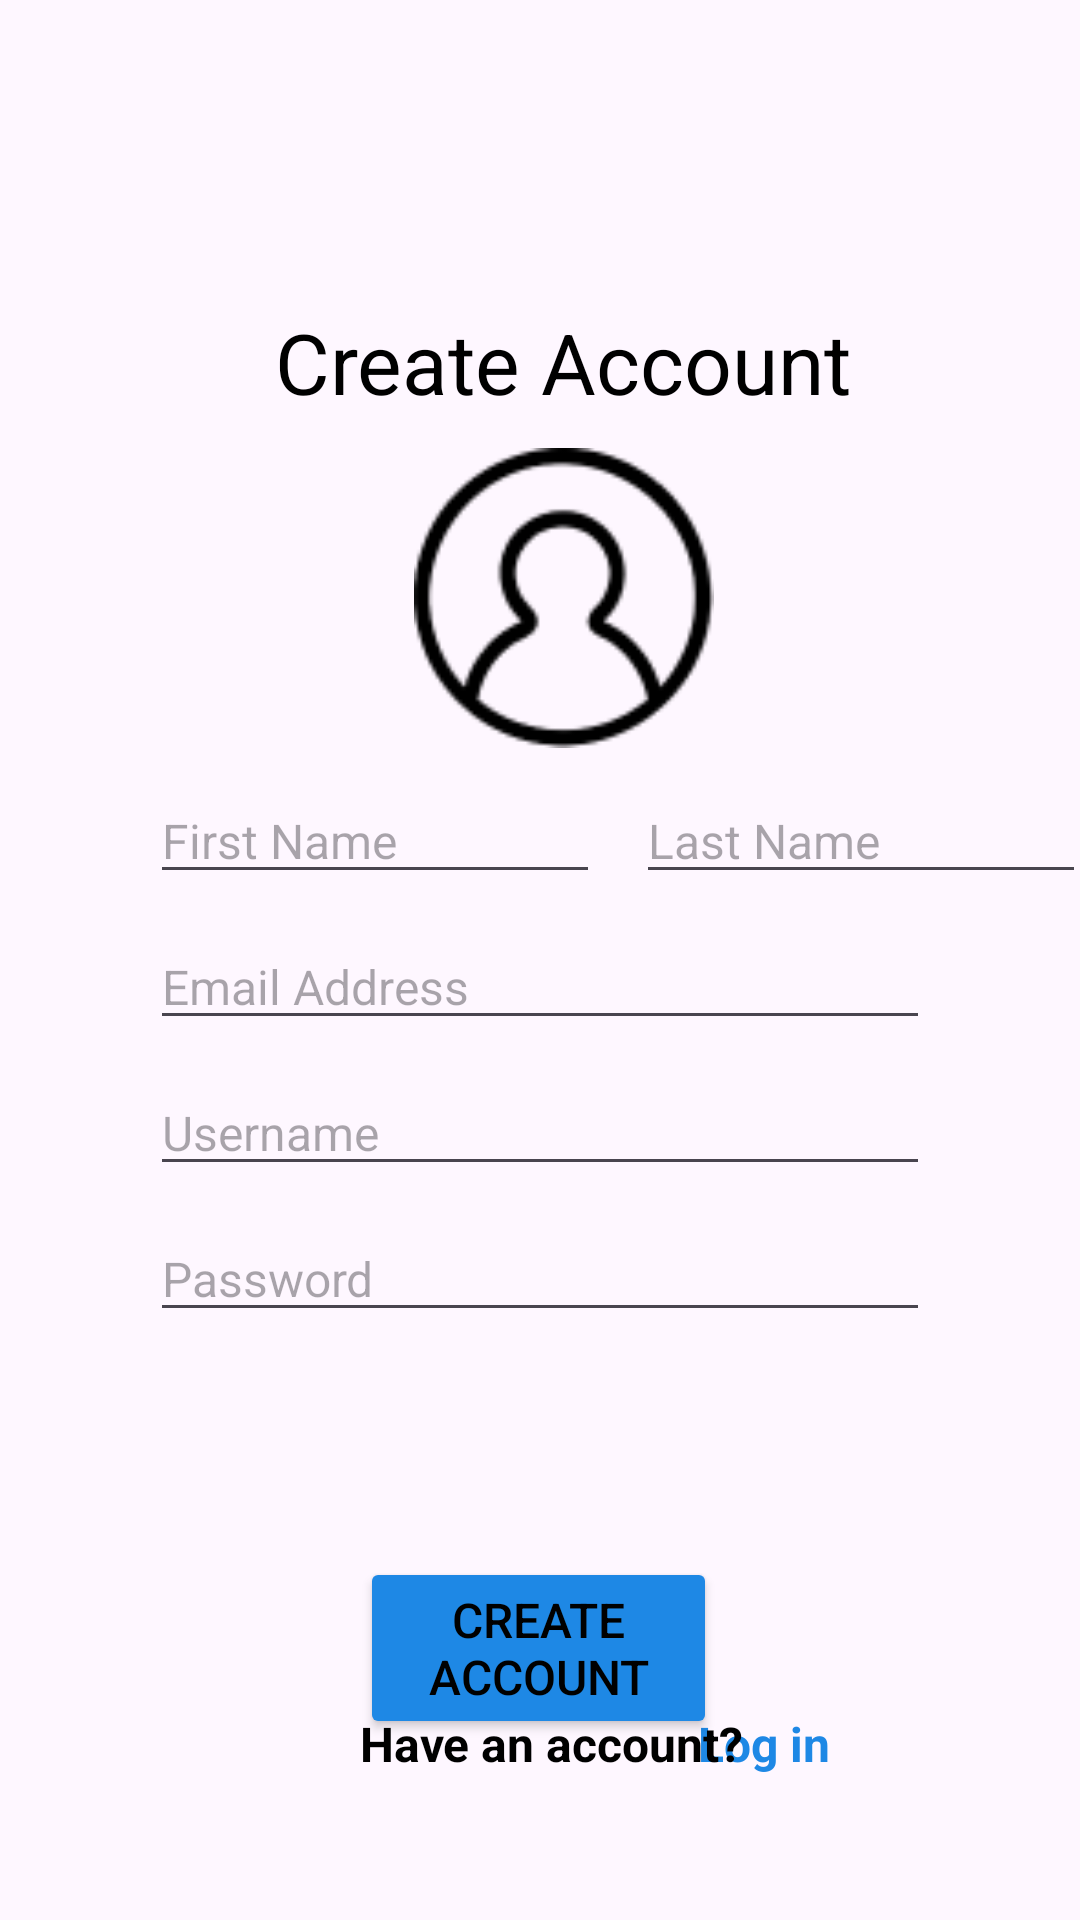

Named icons in this screenshot (1080 x 1920) and their bounding boxes, (x1, y1, x2, y2):
profile: (414, 448, 714, 748)
